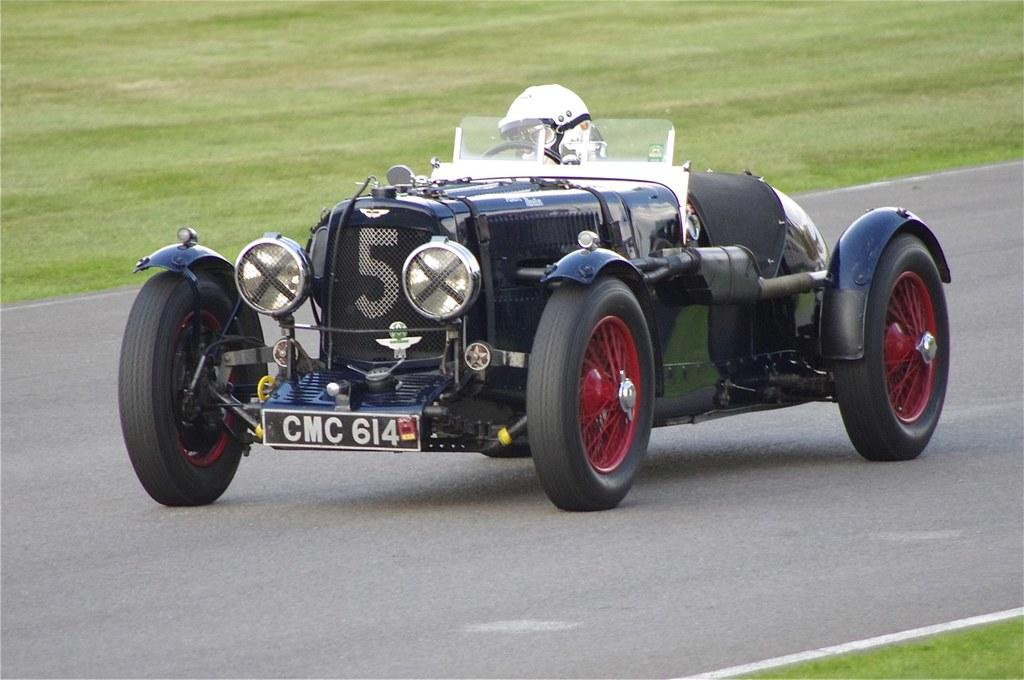helmet: (498, 84, 592, 168)
